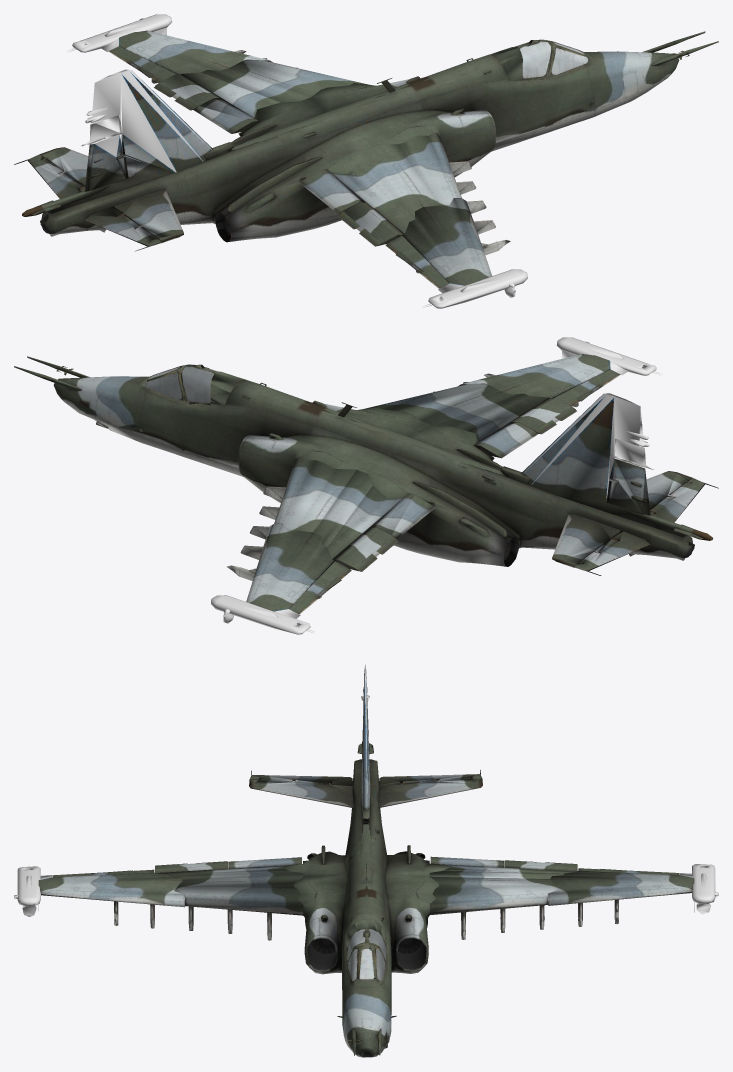
3 views of the same model, one above another, from view 1: azimuth 30°, elevation 25°; view 2: azimuth 150°, elevation 25°; view 3: azimuth 270°, elevation 25° (orthographic). The views are drawn at different scales.
Visible parts, largest first — view 1: g_su25_hull; view 2: g_su25_hull; view 3: g_su25_hull.
Boxes of the visible parts, x1,y1,x2,y2 form: g_su25_hull: (14,14,718,308); g_su25_hull: (14,337,718,634); g_su25_hull: (14,664,718,1057).
Bounding box in the file's own units: 15.3 × 3.85 × 14.07.
Materials: 2 (1 with a texture image).
